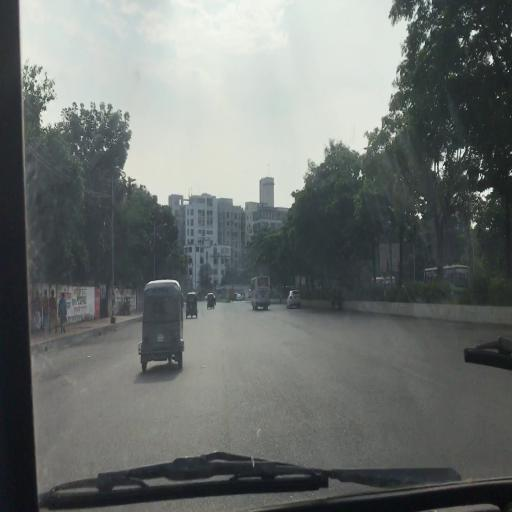bus: (425, 265, 472, 291), (251, 277, 271, 309), (372, 275, 397, 290)
car: (287, 290, 302, 310)
three wheelers (CNG): (140, 281, 185, 369), (187, 292, 199, 317), (208, 295, 216, 309)
